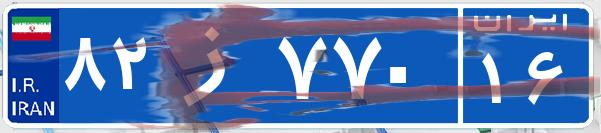0: (385, 28, 445, 110)
1: (475, 38, 525, 113)
2: (110, 28, 158, 105)
6: (525, 38, 570, 115)
7: (273, 28, 330, 110), (330, 28, 385, 110)
8: (57, 26, 110, 107)
ز: (158, 15, 273, 115)
